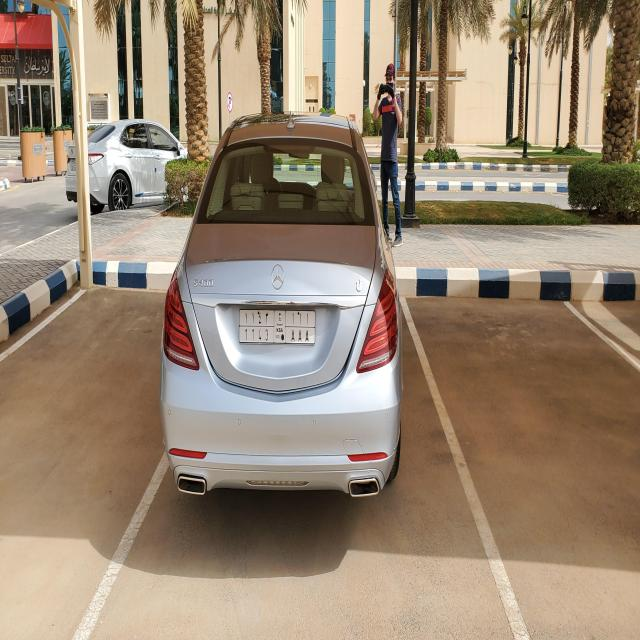license_plate: (236, 299, 317, 354)
